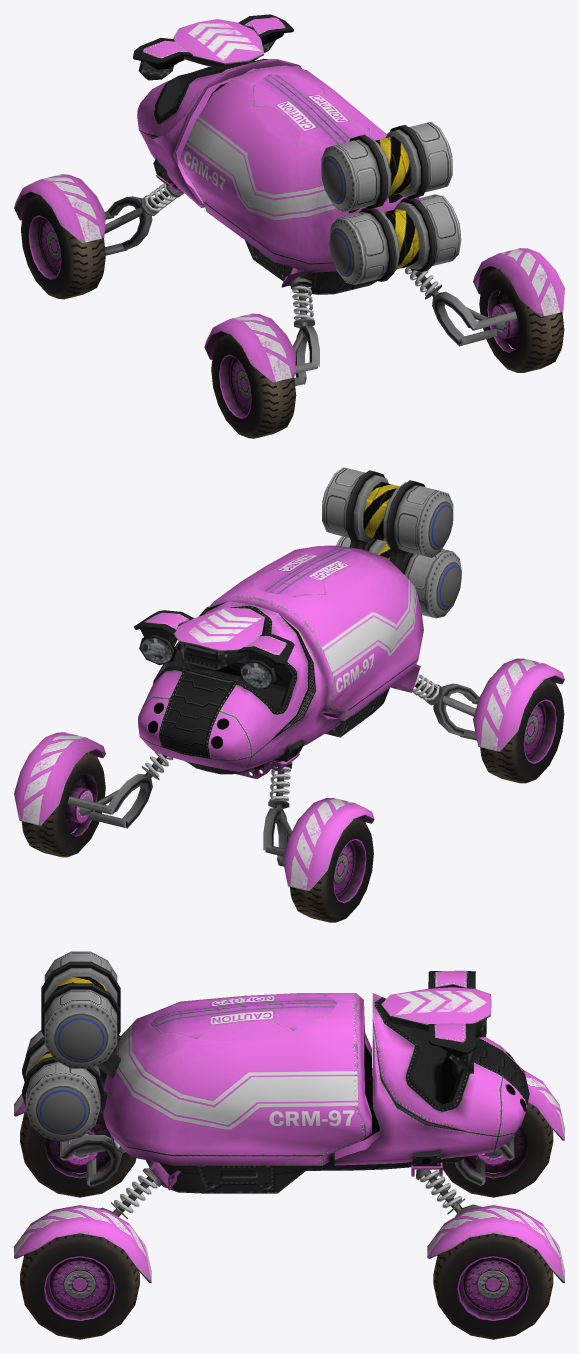
The model's file is rover_pink.dae.
3 views of the same model, one above another, from view 1: azimuth 30°, elevation 25°; view 2: azimuth 150°, elevation 25°; view 3: azimuth 270°, elevation 25° (orthographic). The views are drawn at different scales.
Parts seen in each view (by area): view 1: body, OilTank002, OilTank003, object 2, wheel001, wheel, wheel003, pop_up, wheel_well, wheel_well001, wheel_well003, object 17 (+6 smaller); view 2: object 2, body, OilTank002, pop_up, wheel001, wheel, wheel_well, wheel_well001, wheel_well002, wheel002, OilTank003, Cylinder050 (+6 smaller); view 3: body, object 2, wheel002, wheel003, OilTank002, OilTank003, pop_up, Cylinder014, wheel, wheel001, wheel_well003, wheel_well002 (+8 smaller).
Boxes of the visible parts, x1,y1,x2,y2 form: body: (179,65,418,272); OilTank002: (321,121,452,213); OilTank003: (329,194,461,284); object 2: (137,58,302,207); wheel001: (211,333,296,438); wheel: (21,194,105,299); wheel003: (479,268,564,372); pop_up: (173,14,293,66); wheel_well: (14,174,105,243); wheel_well001: (204,313,296,382); wheel_well003: (473,248,564,317); object 17: (253,75,345,153); object 2: (138,601,341,772); body: (210,545,423,720); OilTank002: (322,467,453,570); pop_up: (133,607,264,669); wheel001: (480,678,564,783); wheel: (290,818,373,922); wheel_well: (282,798,374,891); wheel_well001: (473,658,564,751); wheel_well002: (14,732,105,825); wheel002: (21,752,105,857); OilTank003: (336,536,461,618); Cylinder050: (67,752,173,828); body: (103,993,371,1165); object 2: (334,993,529,1166); wheel002: (433,1234,553,1339); wheel003: (20,1234,139,1339); OilTank002: (41,951,121,1077); OilTank003: (22,1030,107,1141); pop_up: (381,987,491,1073); Cylinder014: (145,1156,469,1193); wheel: (442,1103,553,1197); wheel001: (20,1112,136,1197); wheel_well003: (14,1205,151,1282); wheel_well002: (427,1205,564,1282).
Bounding box in the file's own units: 2.17 × 3.03 × 1.75.
1 material, 1 textured.
